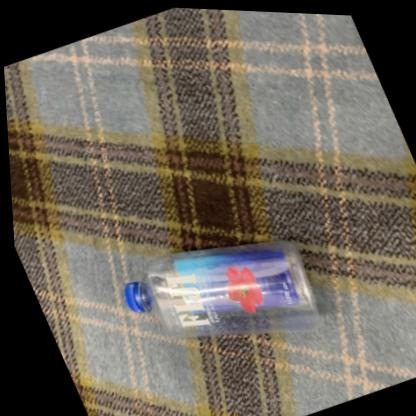Plastic: (120, 236, 317, 335)
